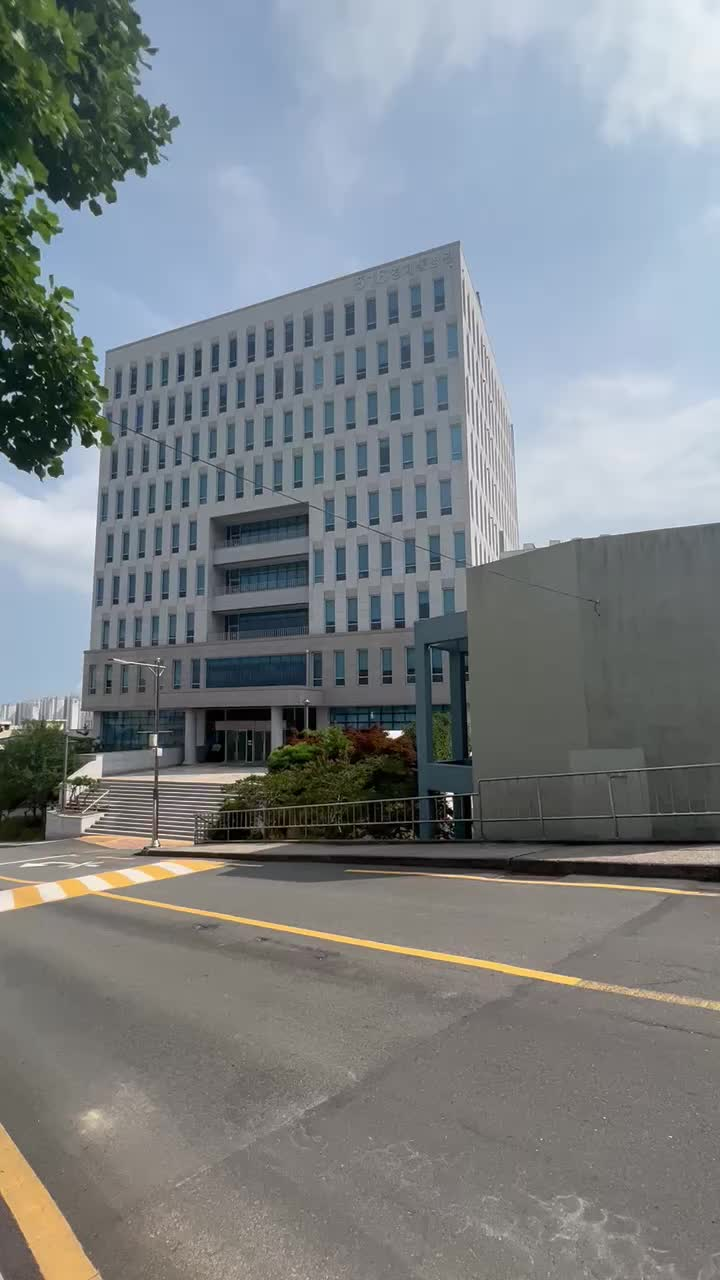low: (86, 242, 512, 750)
